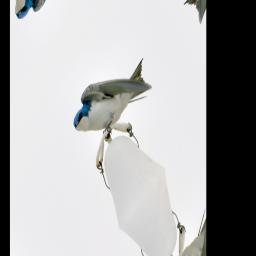Swallow: (67, 30, 159, 167)
